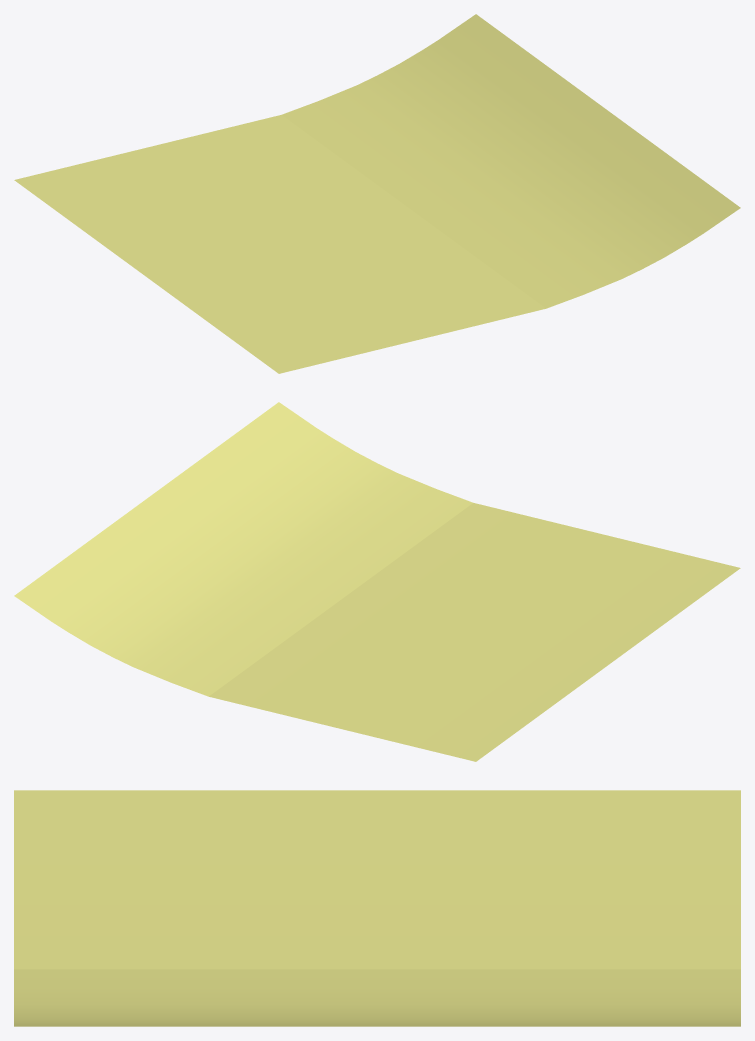
The model's file is S_PostIt3.fbx.
The picture shows the model from 3 angles, top to bottom: view 1: azimuth 30°, elevation 25°; view 2: azimuth 150°, elevation 25°; view 3: azimuth 270°, elevation 25°; orthographic projection. The views are drawn at different scales.
Parts seen in each view (by area): view 1: PostIt1.001; view 2: PostIt1.001; view 3: PostIt1.001.
Boxes of the visible parts, x1=… form: PostIt1.001: x1=14, y1=14, x2=740, y2=373; PostIt1.001: x1=14, y1=402, x2=740, y2=761; PostIt1.001: x1=14, y1=790, x2=740, y2=1026.
Bounding box in the file's own units: 8.21 × 0.9052 × 8.16.
